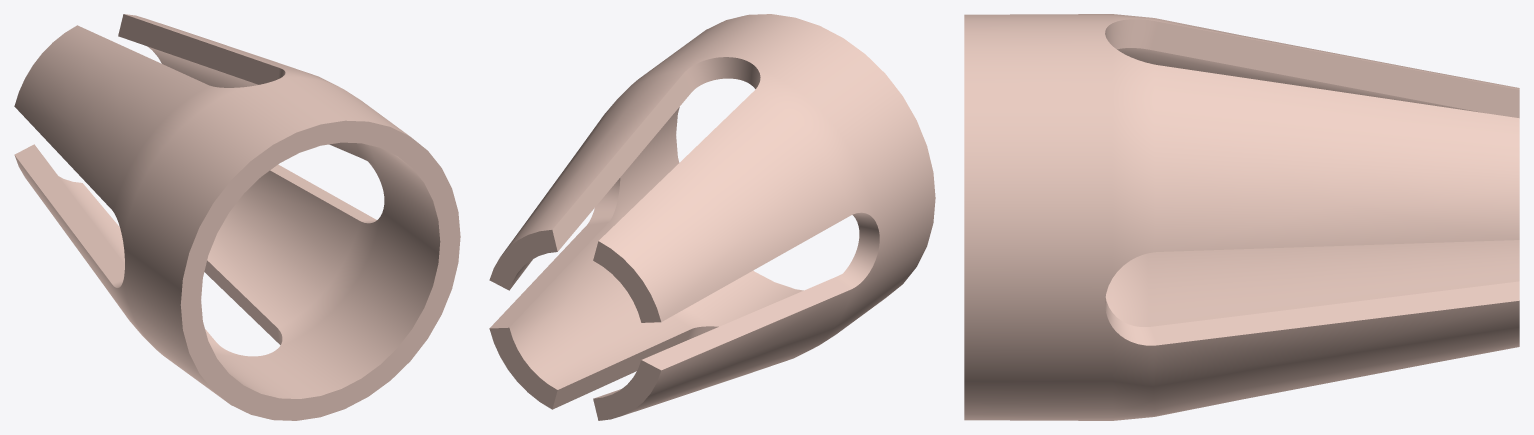
3 renders of one model, left to right at view 1: azimuth 30°, elevation 25°; view 2: azimuth 150°, elevation 25°; view 3: azimuth 270°, elevation 25°, orthographic. The views are drawn at different scales.
Parts seen in each view (by area): view 1: MpinContact_Large v2; view 2: MpinContact_Large v2; view 3: MpinContact_Large v2.
Boxes of the visible parts, x1,y1,x2,y2 form: MpinContact_Large v2: [14, 14, 460, 420]; MpinContact_Large v2: [489, 14, 935, 420]; MpinContact_Large v2: [964, 14, 1519, 420].
Bounding box in the file's own units: 0.00275 × 0.00275 × 0.00375.
